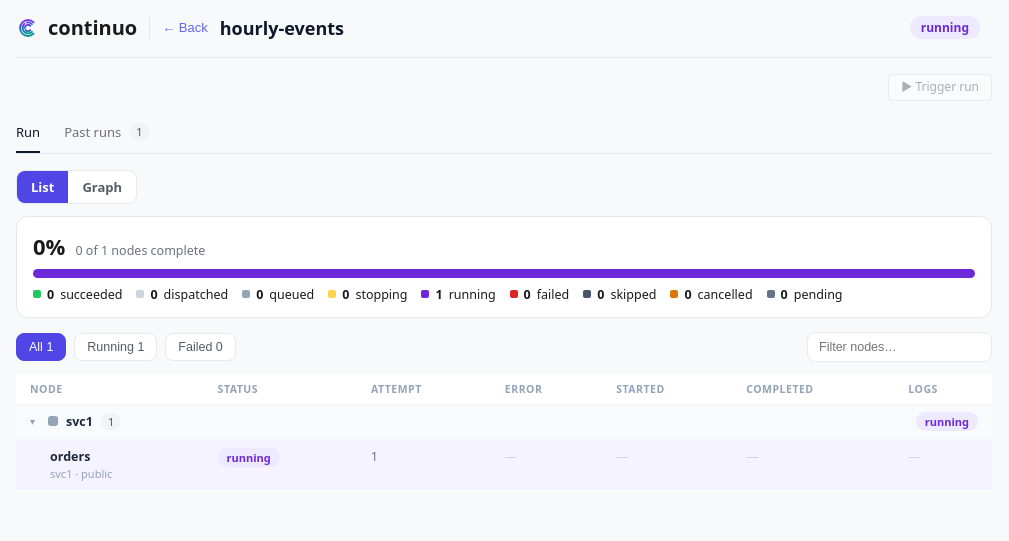
Test: DetailPage — Run tab polling › does not poll a selected past run
The image size is (1009, 541).
Expected: the text "orders" is shown, [50, 448, 90, 465]
Click the tab "Past runs 1" at (107, 132), box [64, 123, 150, 141]
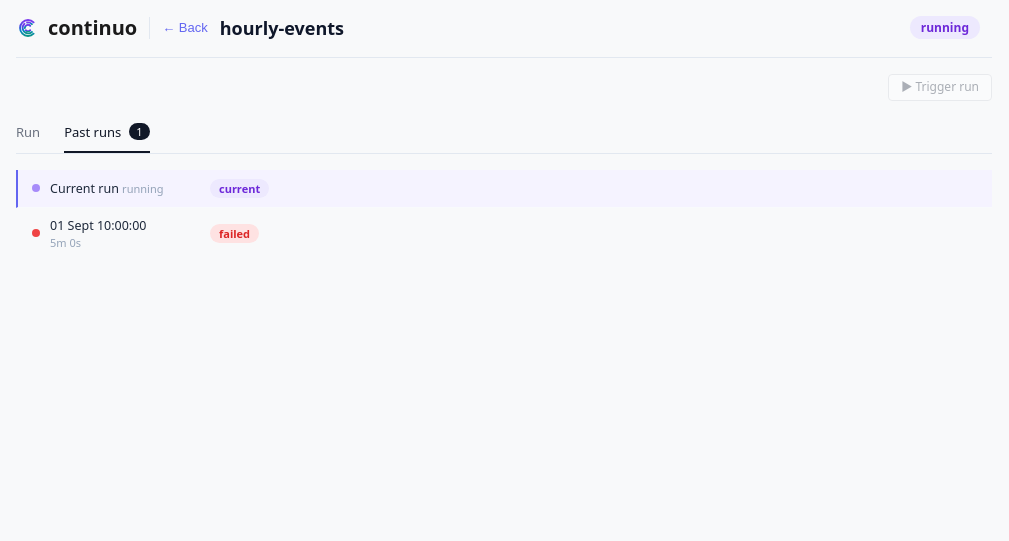
Result: the number of buttons with class "run-row" is 2
Click the button with class "run-row" showing "01 Sept 10:00:00 5m 0s failed" at (98, 225), box [16, 208, 992, 259]
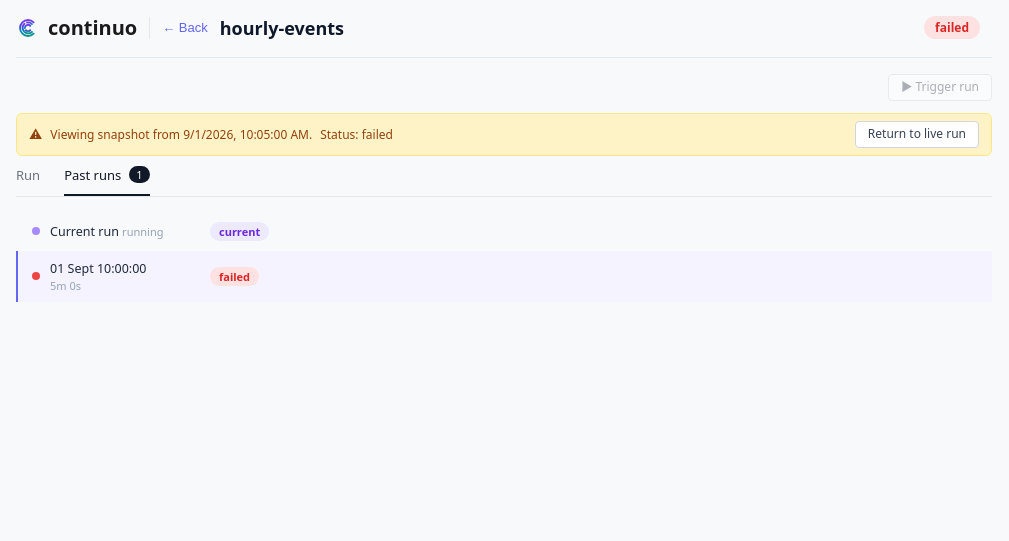
Click the tab "Run" at (28, 175), box [16, 166, 40, 184]
Wait 15000 ms
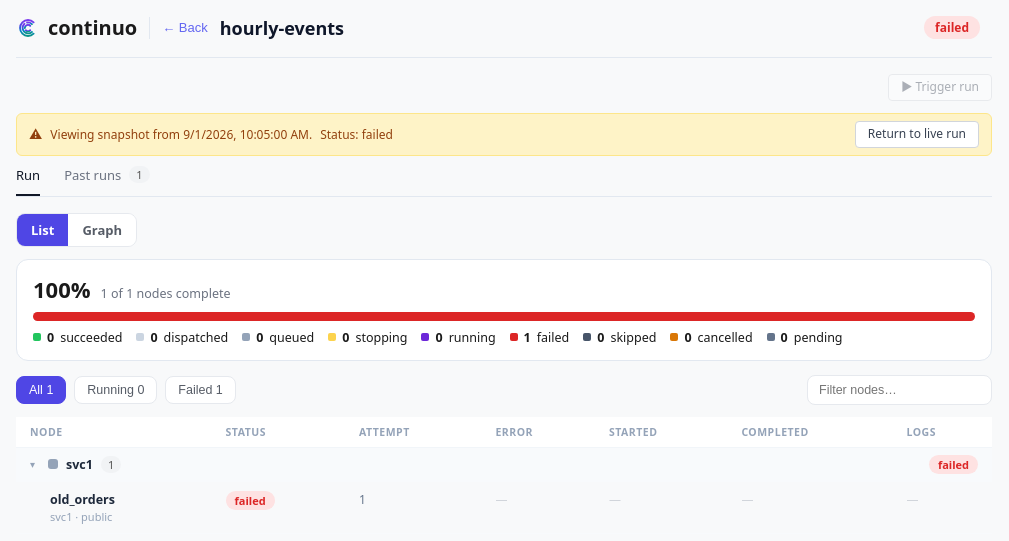
Result: the text "old_orders" is shown at [50, 491, 115, 508]
